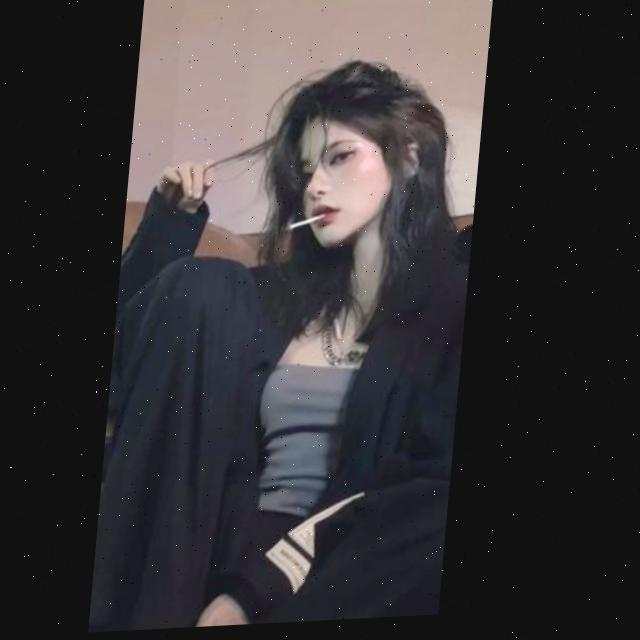cigarette: (292, 218, 331, 231)
